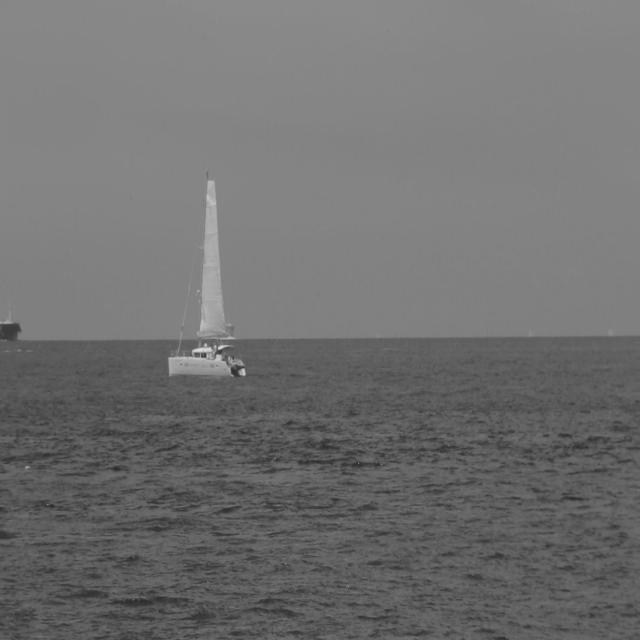ship: (172, 166, 252, 377), (1, 298, 18, 349)
